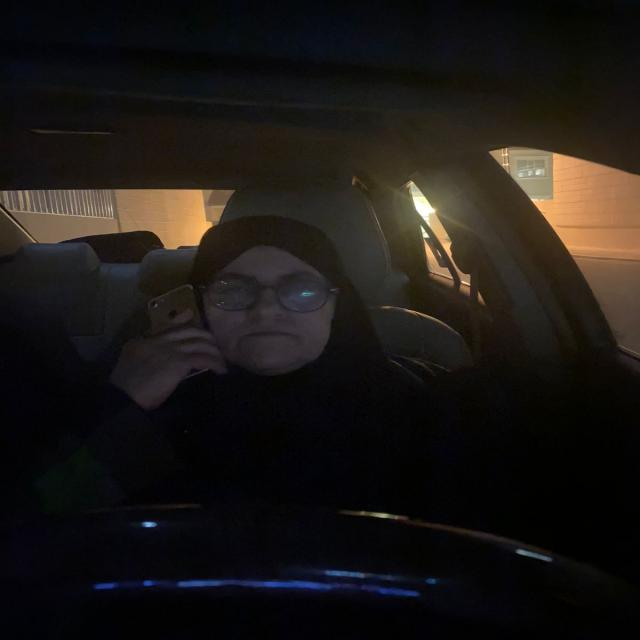mobile: (144, 274, 207, 335)
person: (201, 231, 345, 383)
